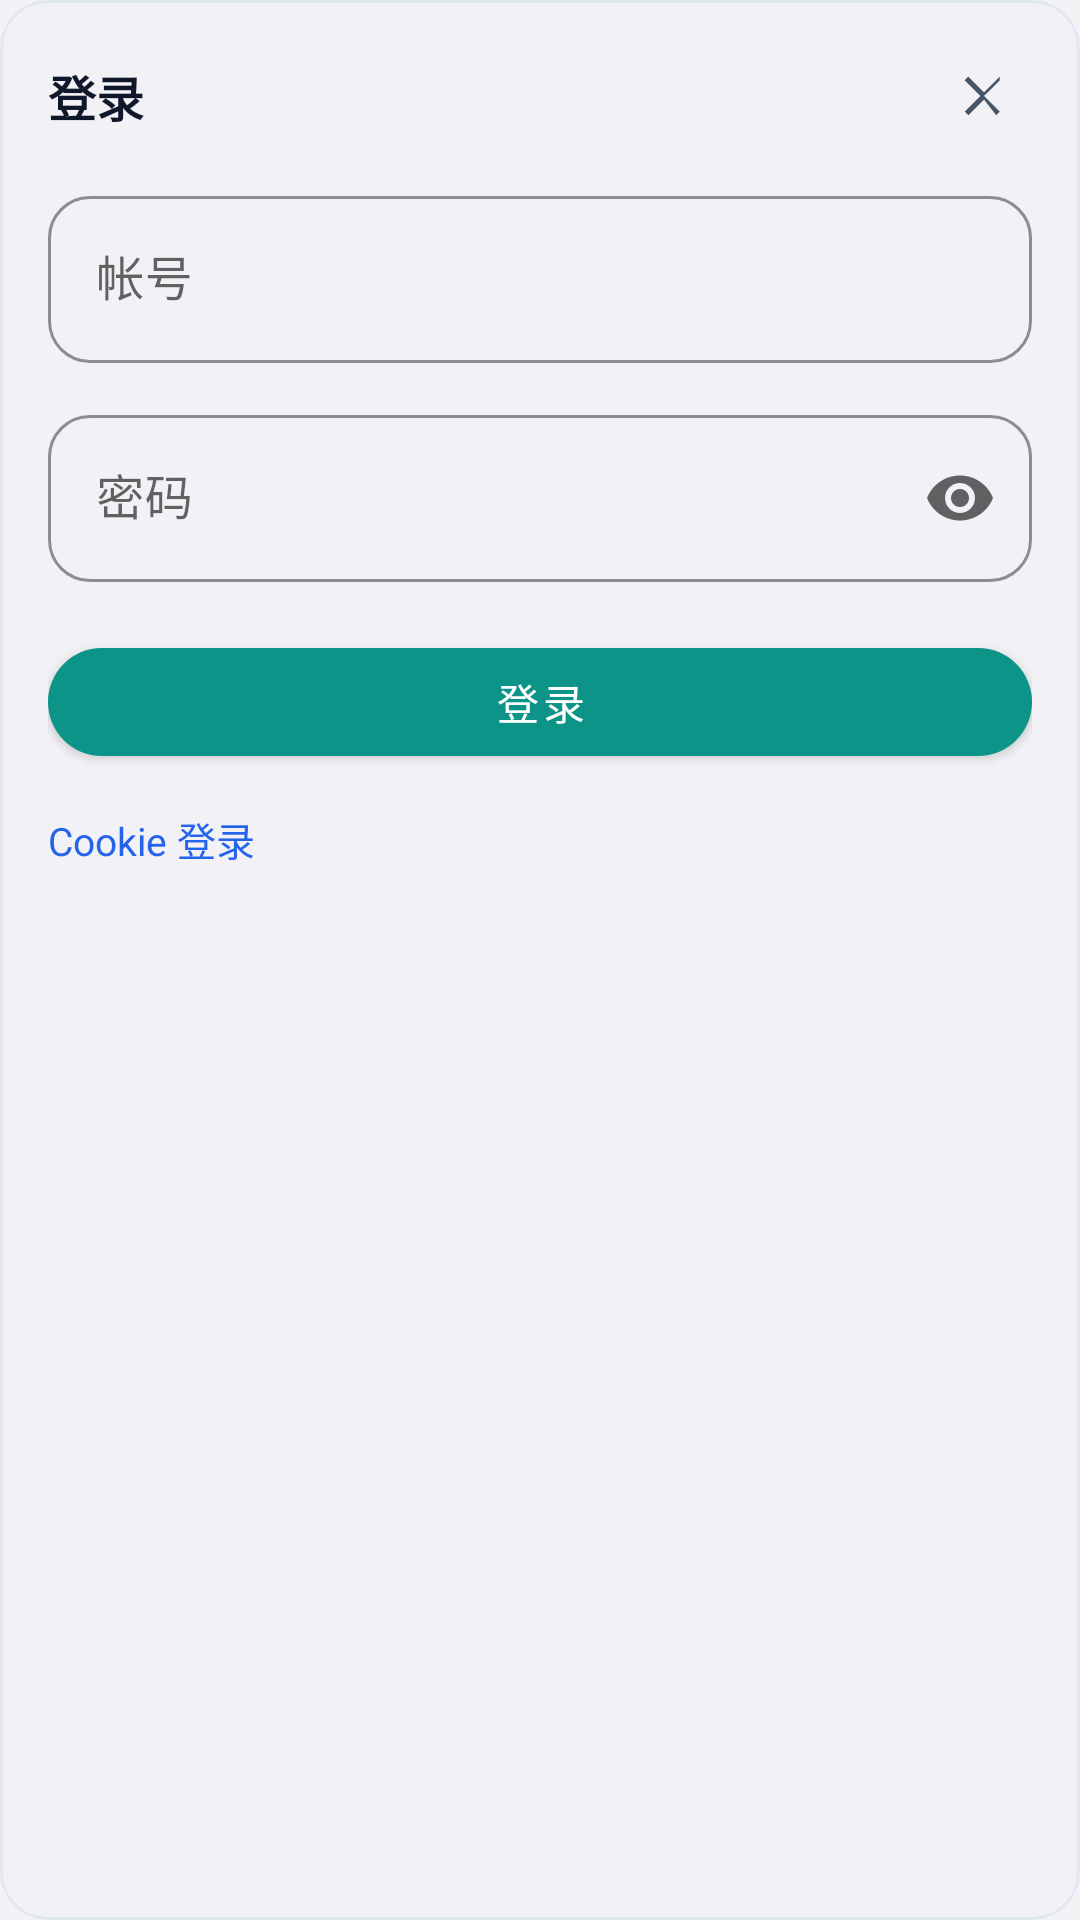

Point at icon controls on the screen. Image size 1080*1920, points as point (x, y).
关闭: point (982, 96)
